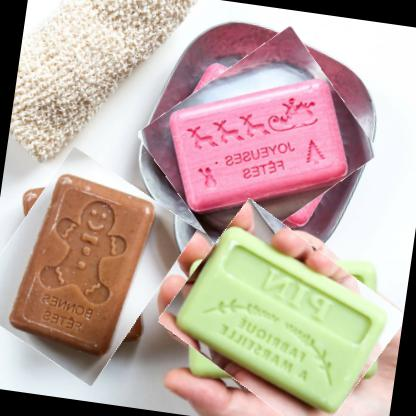soap: (137, 30, 378, 257), (159, 208, 407, 415), (0, 147, 188, 385)
